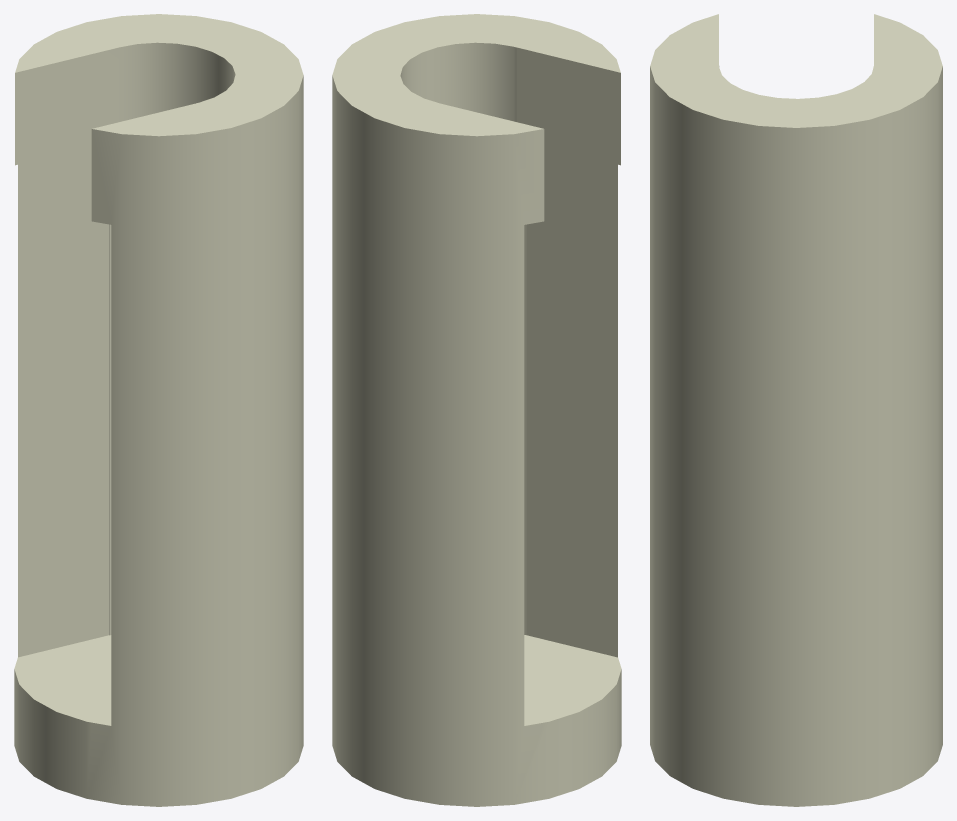
The model's file is 10cc_syringe_hammer_casing.dae.
3 views of the same model, side by side, from view 1: azimuth 30°, elevation 25°; view 2: azimuth 150°, elevation 25°; view 3: azimuth 270°, elevation 25° (orthographic).
Parts seen in each view (by area): view 1: SketchUp; view 2: SketchUp; view 3: SketchUp.
Part boxes in pixels (<box>): SketchUp: <box>14,14,303,806</box>; SketchUp: <box>332,14,621,806</box>; SketchUp: <box>650,14,942,806</box>.
Size of the model in its own units: 1.34 by 1.34 by 3.43.
